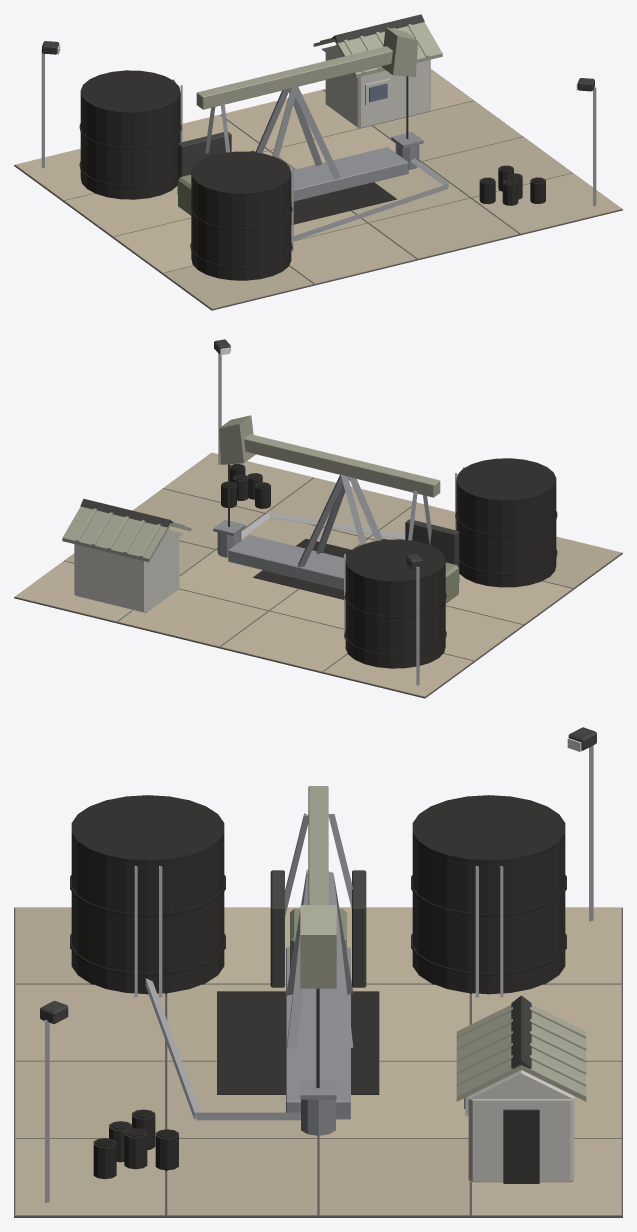
Rendered from b_oilwell.glb.
3 views of the same model, one above another, from view 1: azimuth 30°, elevation 25°; view 2: azimuth 150°, elevation 25°; view 3: azimuth 270°, elevation 25° (orthographic). The views are drawn at different scales.
Parts seen in each view (by area): view 1: hull; view 2: hull; view 3: hull.
Boxes of the visible parts, box(x1,y1,x2,y2) form: hull: box(14, 14, 622, 310); hull: box(14, 339, 622, 698); hull: box(14, 727, 622, 1217).
Size of the model in its own units: 18 by 5.8 by 15.
